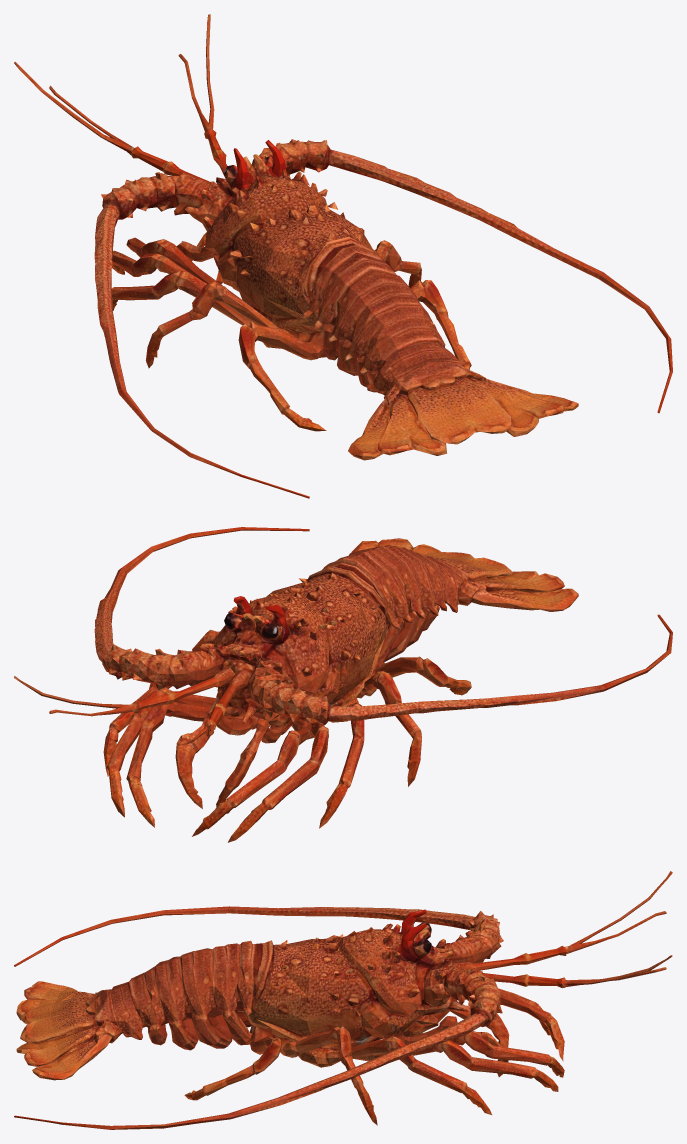
File: ROBUSTER.obj
3 renders of one model, top to bottom at view 1: azimuth 30°, elevation 25°; view 2: azimuth 150°, elevation 25°; view 3: azimuth 270°, elevation 25°, orthographic. The views are drawn at different scales.
Parts seen in each view (by area): view 1: tripo_node_d4c023ed-2340-455d-8687-f832e89683c5; view 2: tripo_node_d4c023ed-2340-455d-8687-f832e89683c5; view 3: tripo_node_d4c023ed-2340-455d-8687-f832e89683c5.
Boxes of the visible parts, x1,y1,x2,y2 form: tripo_node_d4c023ed-2340-455d-8687-f832e89683c5: [14, 14, 672, 498]; tripo_node_d4c023ed-2340-455d-8687-f832e89683c5: [14, 527, 672, 842]; tripo_node_d4c023ed-2340-455d-8687-f832e89683c5: [14, 871, 672, 1129].
Bounding box in the file's own units: 0.7578 × 0.2647 × 0.9803.
Materials: 1 (1 with a texture image).
